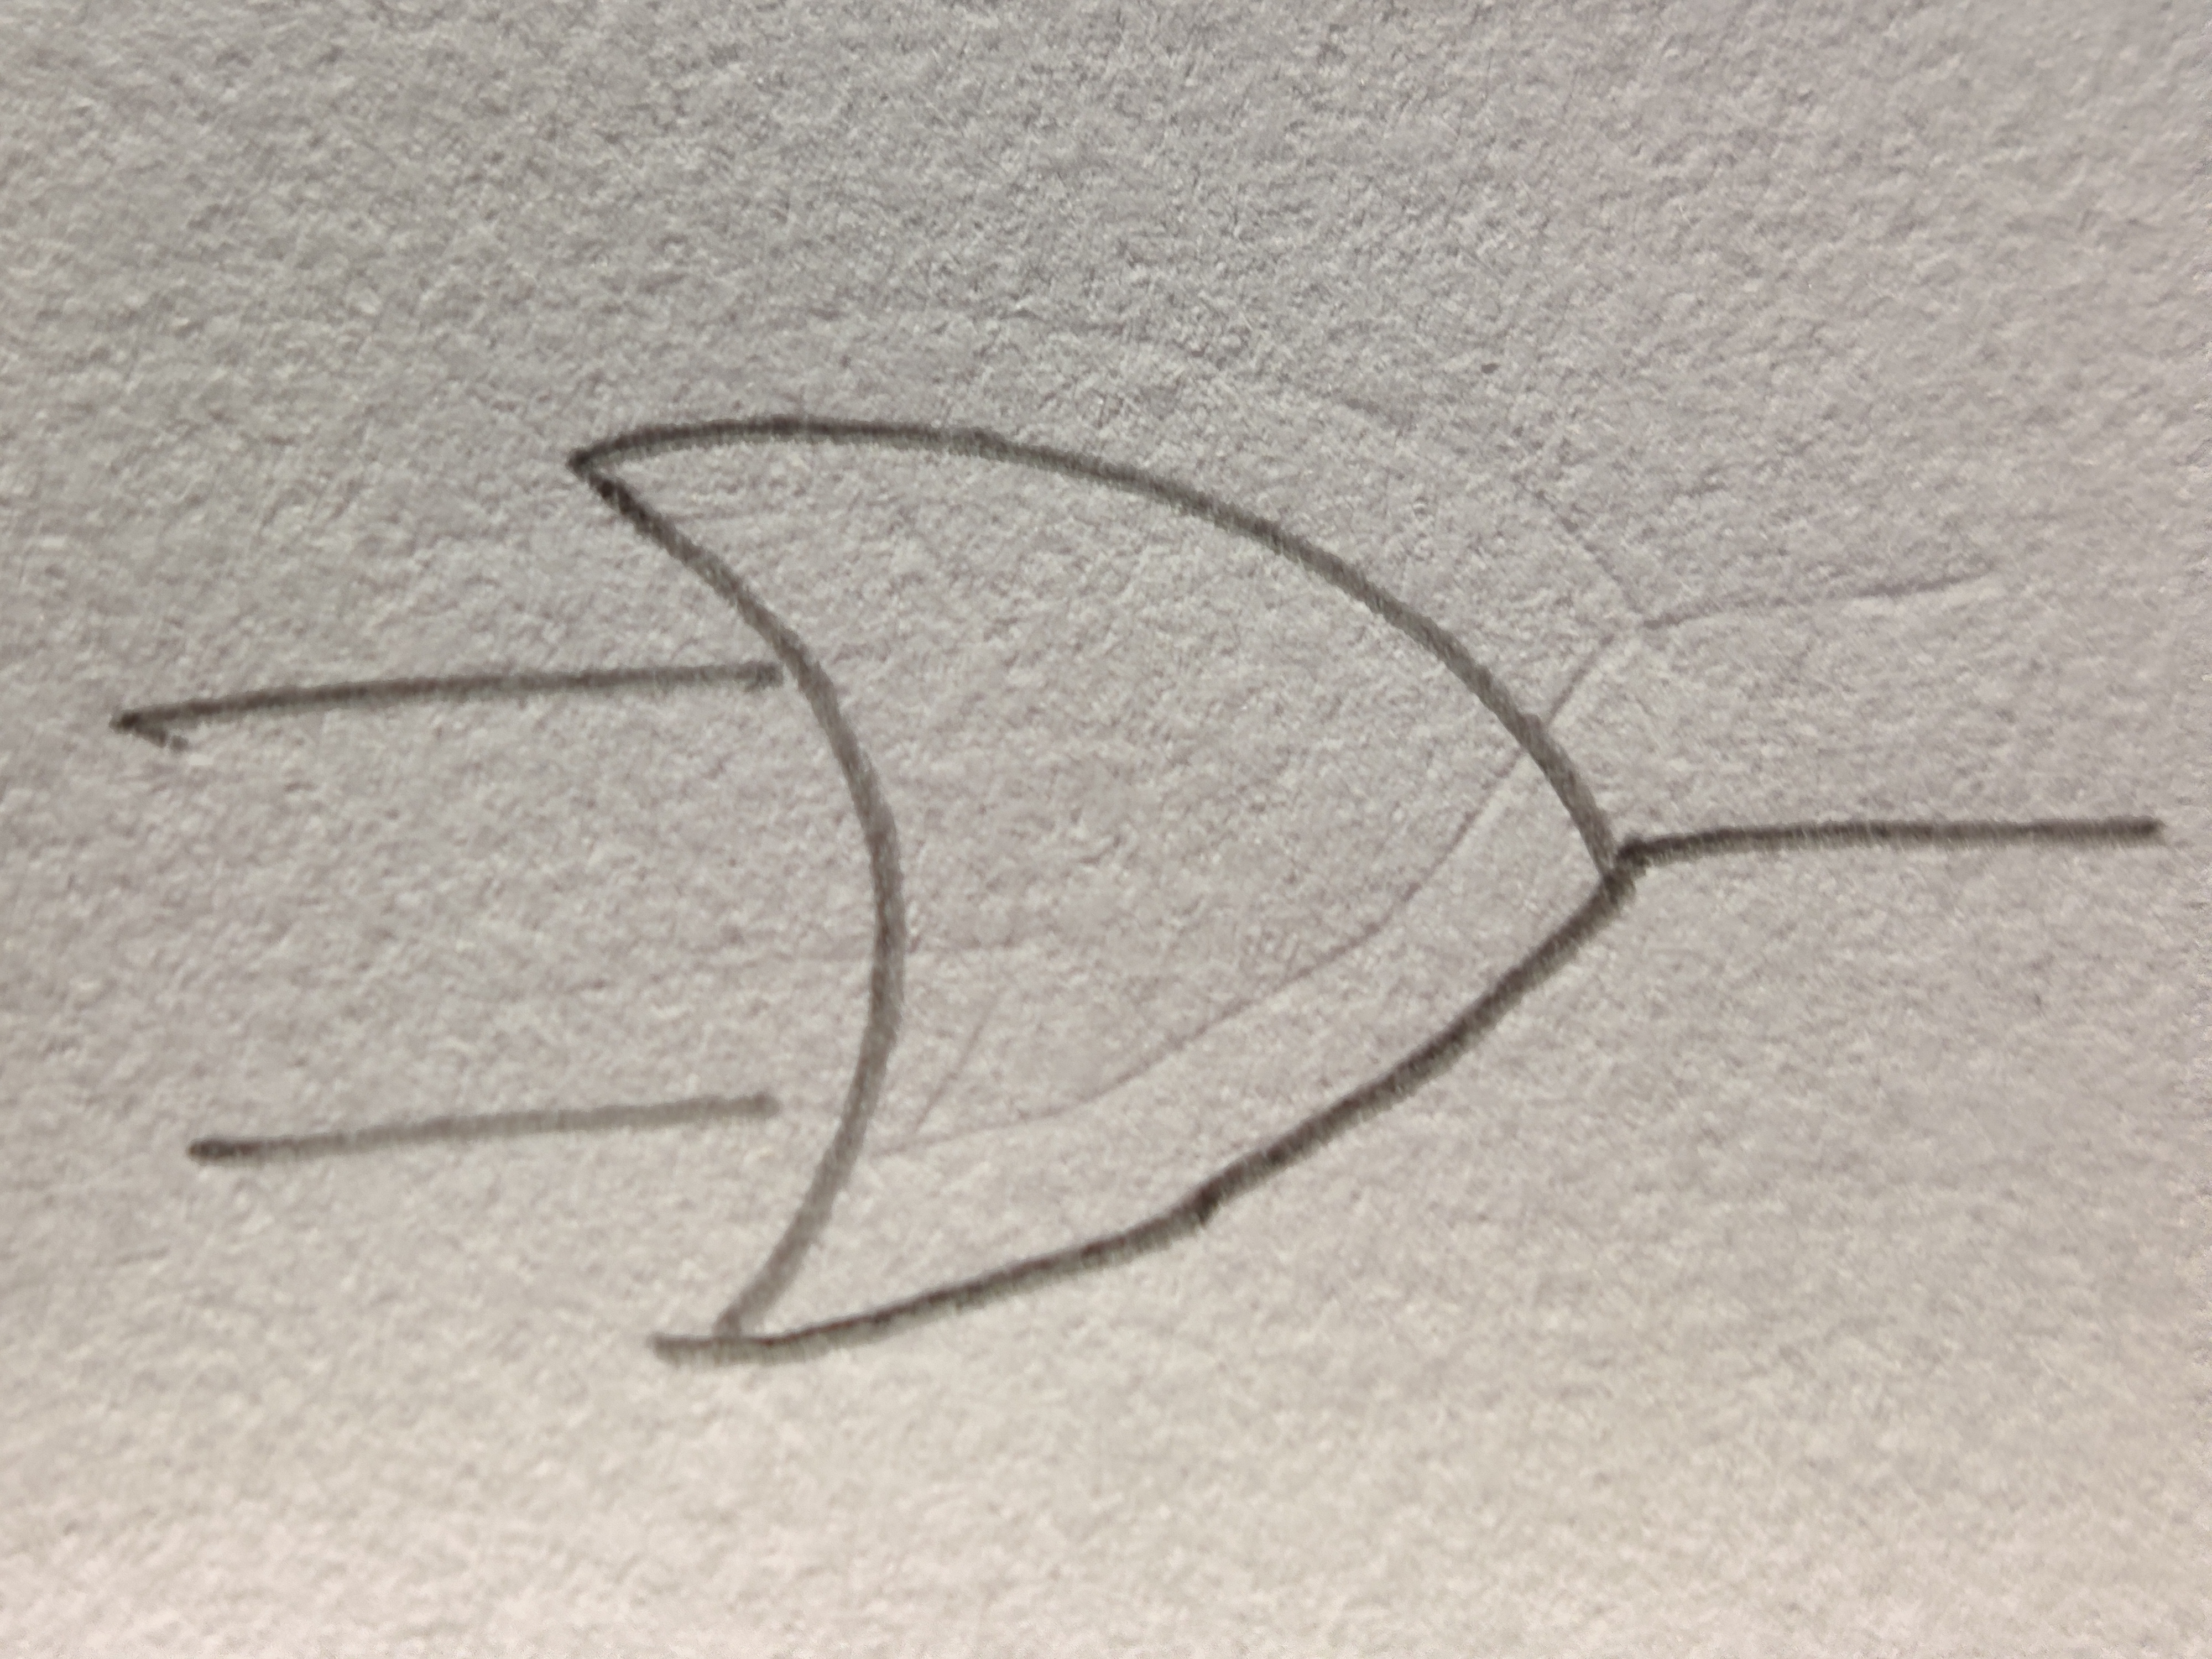or: (571, 413, 1632, 1361)
